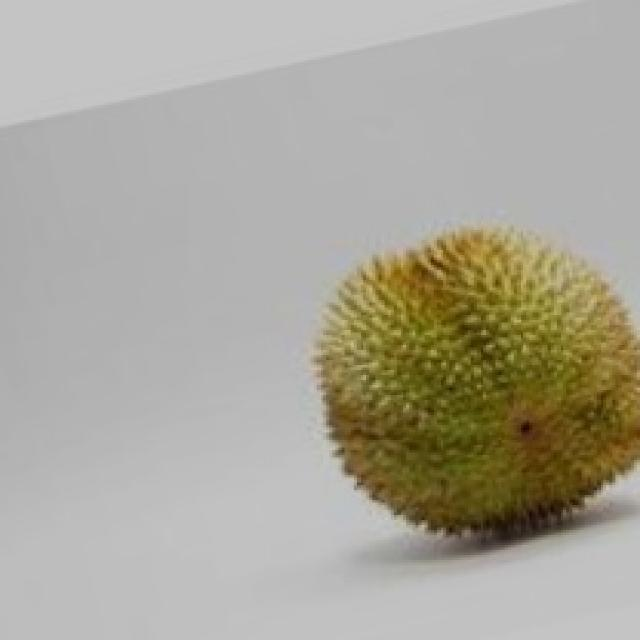fruit: (268, 195, 634, 583)
